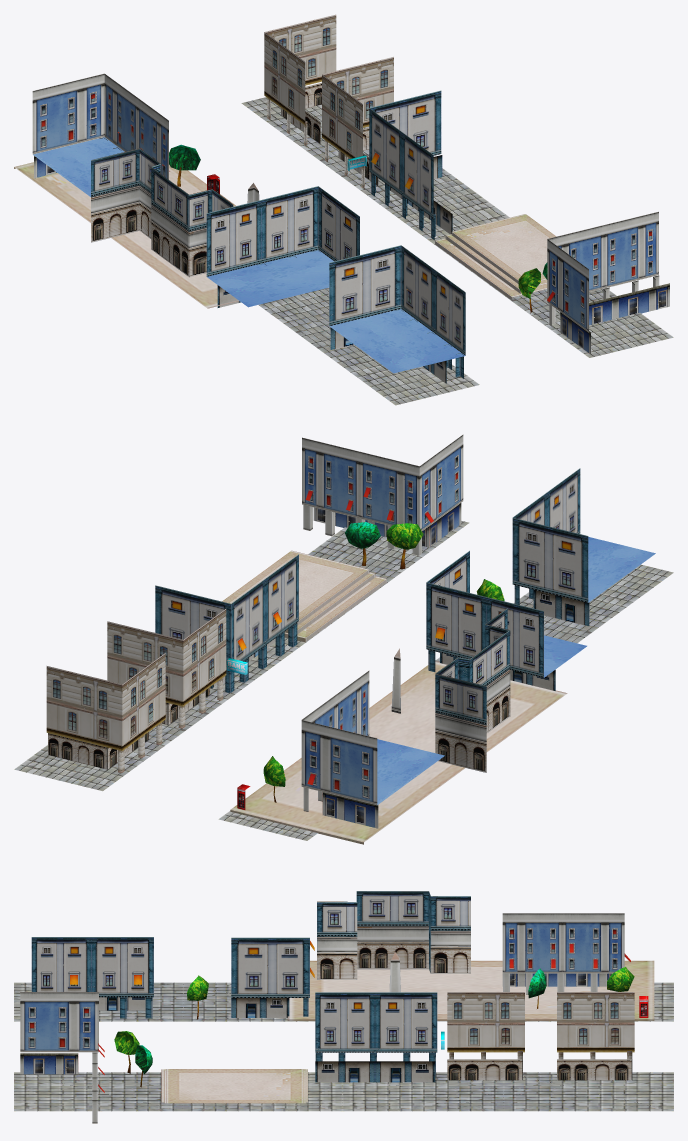
The model's file is eu_city_mid1.fbx.
3 renders of one model, top to bottom at view 1: azimuth 30°, elevation 25°; view 2: azimuth 150°, elevation 25°; view 3: azimuth 270°, elevation 25°, orthographic. The views are drawn at different scales.
Parts seen in each view (by area): view 1: eu_city_mid1; view 2: eu_city_mid1; view 3: eu_city_mid1.
Boxes of the visible parts, bbox=[...] form: eu_city_mid1: bbox=[14, 14, 673, 405]; eu_city_mid1: bbox=[14, 434, 673, 844]; eu_city_mid1: bbox=[14, 891, 673, 1123].
Size of the model in its own units: 6162 by 1466 by 10000.
